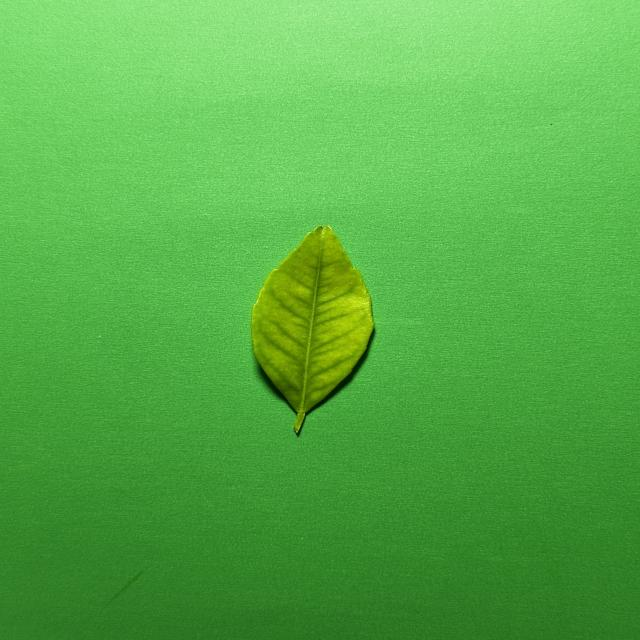greening: (251, 226, 373, 433)
